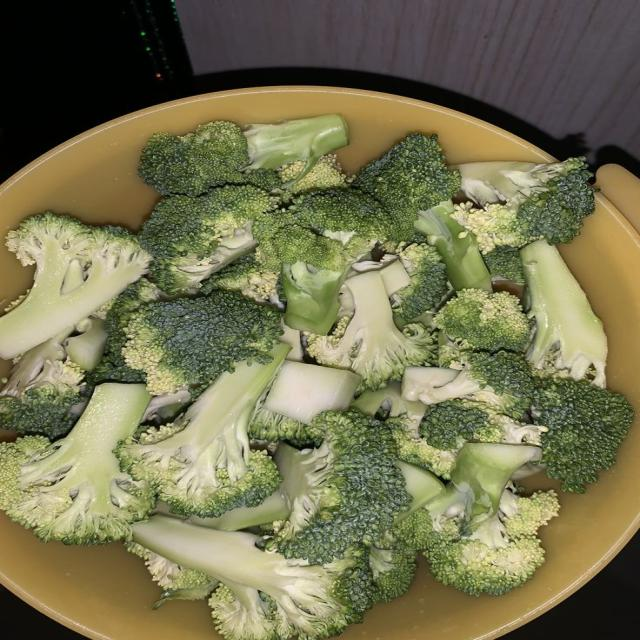broccoli: (129, 515, 373, 639), (116, 345, 289, 516), (0, 384, 155, 544), (267, 410, 410, 563), (0, 213, 150, 358), (424, 444, 559, 594), (140, 115, 348, 195), (122, 291, 282, 394), (307, 271, 436, 389), (140, 185, 273, 294), (454, 158, 594, 253), (520, 241, 607, 386), (253, 212, 353, 334), (533, 378, 633, 493), (354, 134, 459, 239), (369, 462, 444, 601), (353, 382, 456, 478), (250, 362, 360, 446), (0, 328, 83, 438), (403, 351, 534, 418), (87, 278, 165, 384), (291, 188, 406, 259), (414, 200, 492, 291), (420, 400, 546, 450), (263, 362, 360, 426), (434, 290, 531, 352), (391, 243, 449, 321), (388, 416, 456, 478), (200, 254, 281, 306), (189, 490, 289, 531), (352, 381, 426, 433), (369, 536, 418, 601), (278, 154, 349, 197), (249, 406, 321, 446), (349, 256, 411, 298), (66, 317, 107, 371), (142, 387, 192, 425), (483, 246, 524, 286), (280, 319, 304, 362)
